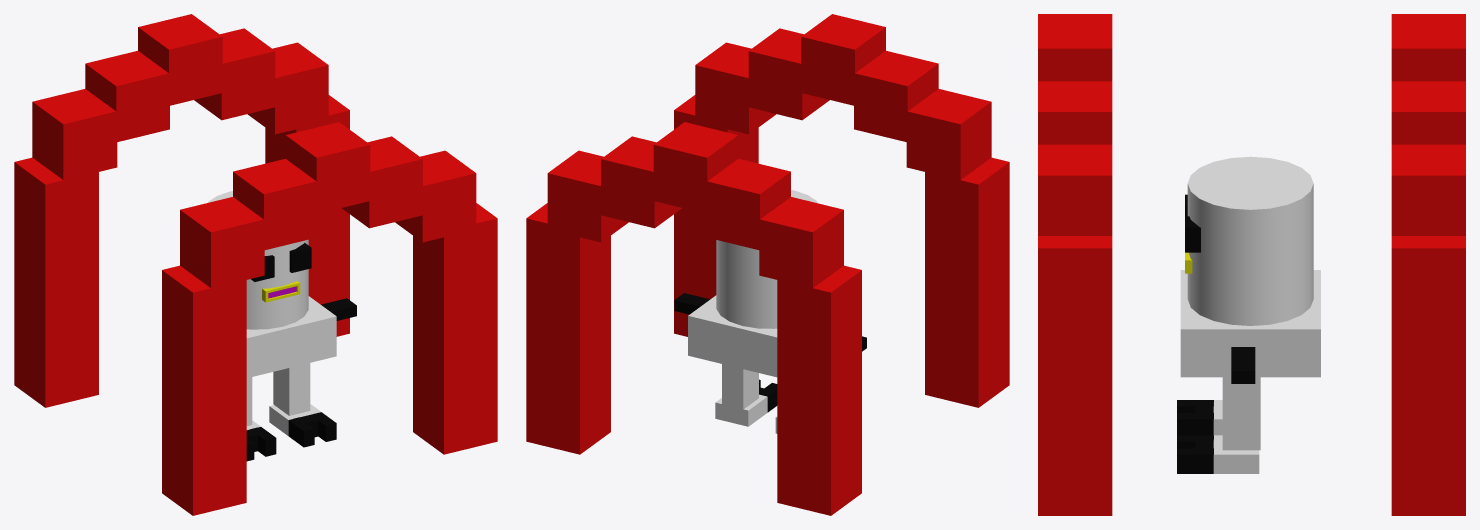
File: gate.fbx
The picture shows the model from 3 angles, left to right: view 1: azimuth 30°, elevation 25°; view 2: azimuth 150°, elevation 25°; view 3: azimuth 270°, elevation 25°; orthographic projection. The views are drawn at different scales.
Parts seen in each view (by area): view 1: pCube268, pCube255, pCube256, pCube269, pCube257, pCube270, pCube263, pCube250, pCube252, pCube260, pCube247, pCube248 (+20 smaller); view 2: pCube255, pCube268, pCube270, pCube269, pCube256, pCube257, pCube250, pCube263, pCube265, pCube247, pCube260, pCube248 (+18 smaller); view 3: pCylinder54, pCube275, pCube259, pCube272, pCube254, pCube267, pCube251, pCube252, pCube264, pCube265, pCube266, pCube253 (+10 smaller).
Boxes of the visible parts, x1,y1,x2,y2 form: pCube268: [32, 89, 117, 180]; pCube255: [180, 197, 264, 288]; pCube256: [233, 159, 317, 249]; pCube269: [85, 50, 169, 142]; pCube257: [285, 122, 370, 213]; pCube270: [138, 14, 222, 105]; pCube263: [14, 157, 98, 240]; pCube250: [162, 265, 246, 348]; pCube252: [413, 320, 497, 398]; pCube260: [14, 329, 98, 407]; pCube247: [162, 438, 246, 515]; pCube248: [162, 381, 246, 459]; pCube255: [906, 89, 991, 179]; pCube268: [759, 197, 843, 288]; pCube270: [653, 122, 738, 213]; pCube269: [706, 159, 790, 250]; pCube256: [854, 50, 938, 141]; pCube257: [801, 14, 885, 105]; pCube250: [925, 157, 1009, 240]; pCube263: [777, 265, 861, 348]; pCube265: [526, 320, 610, 398]; pCube247: [925, 329, 1009, 407]; pCube260: [777, 437, 861, 515]; pCube248: [925, 273, 1009, 352]; pCylinder54: [1187, 156, 1313, 325]; pCube275: [1180, 270, 1320, 377]; pCube259: [1038, 144, 1112, 235]; pCube272: [1391, 144, 1465, 235]; pCube254: [1038, 236, 1112, 315]; pCube267: [1391, 236, 1465, 315]; pCube251: [1038, 448, 1112, 515]; pCube252: [1038, 382, 1112, 449]; pCube264: [1391, 448, 1465, 515]; pCube265: [1391, 382, 1465, 449]; pCube266: [1391, 315, 1465, 381]; pCube253: [1038, 315, 1112, 381].
Bounding box in the file's own units: 11.34 × 12.2 × 11.52.
